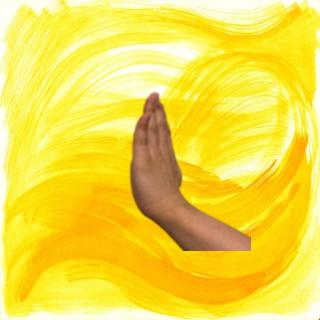RIGHT: (121, 86, 188, 221)
